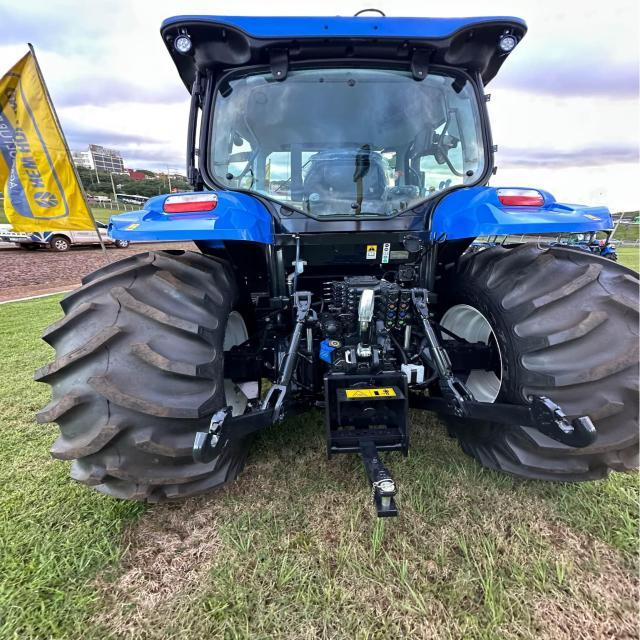Tratores - v5 YOLO V8L 2024-11-13: (39, 11, 640, 515)
